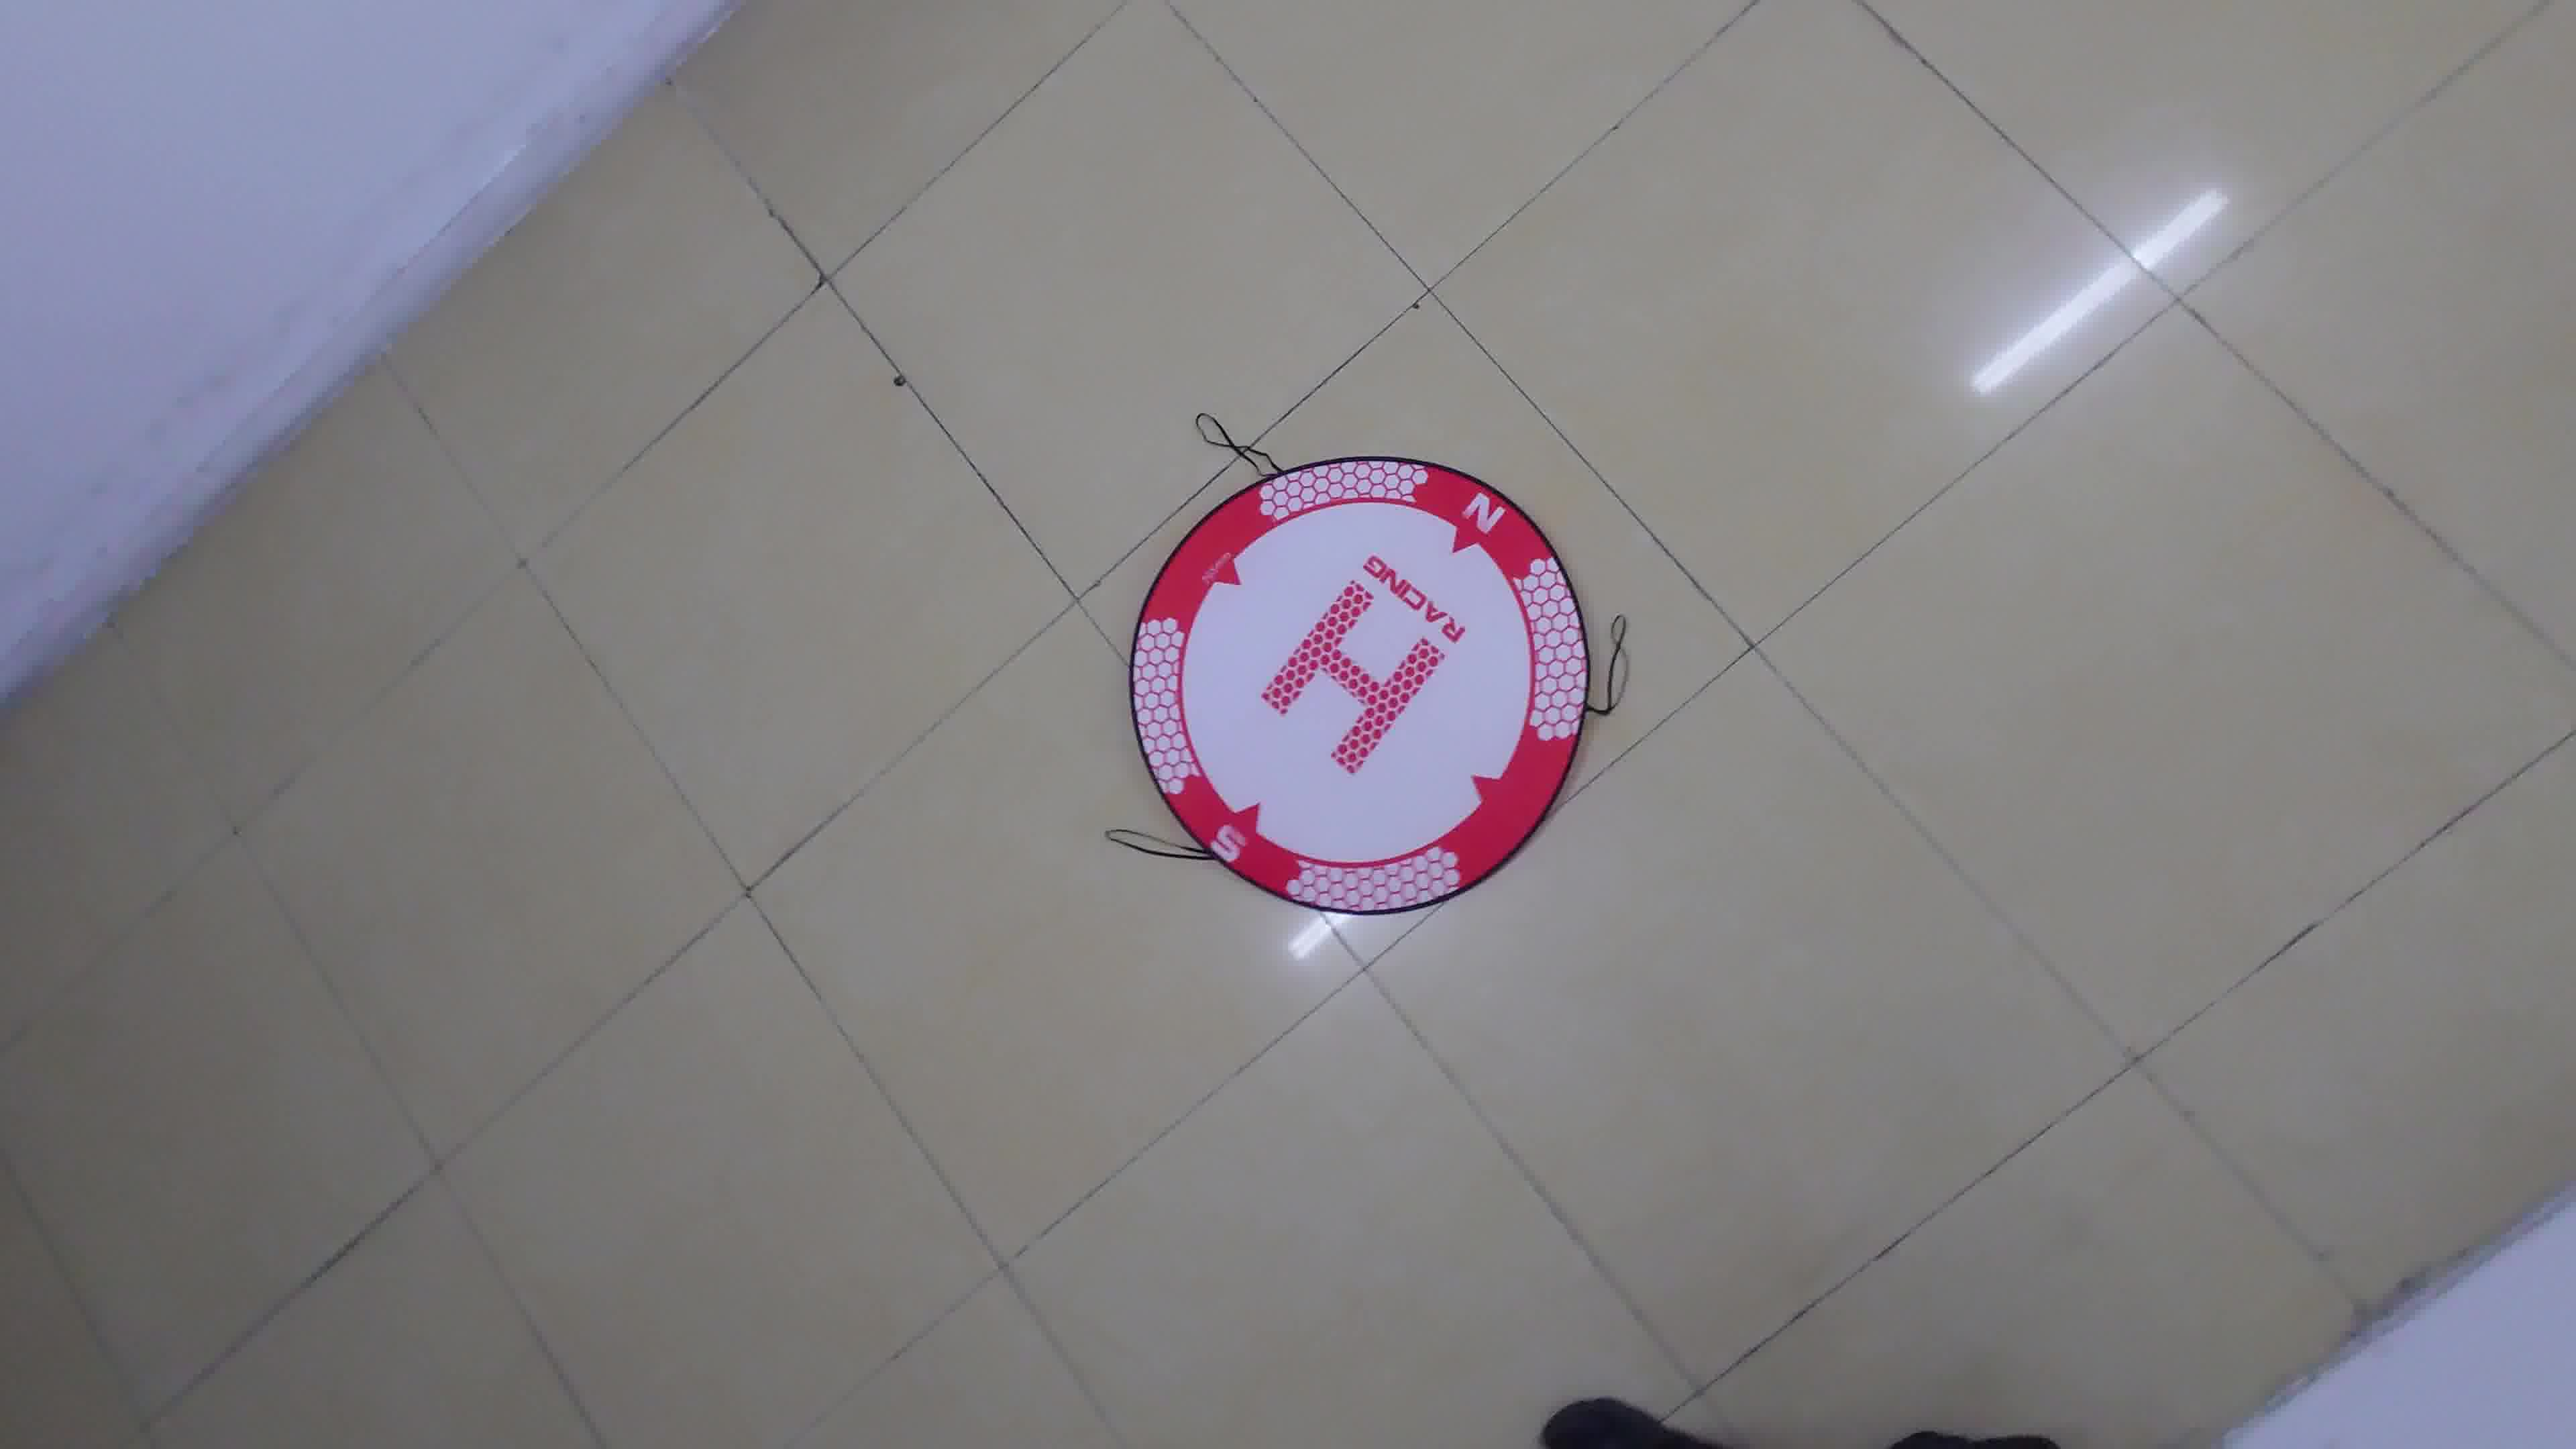H: (1261, 580, 1444, 775)
